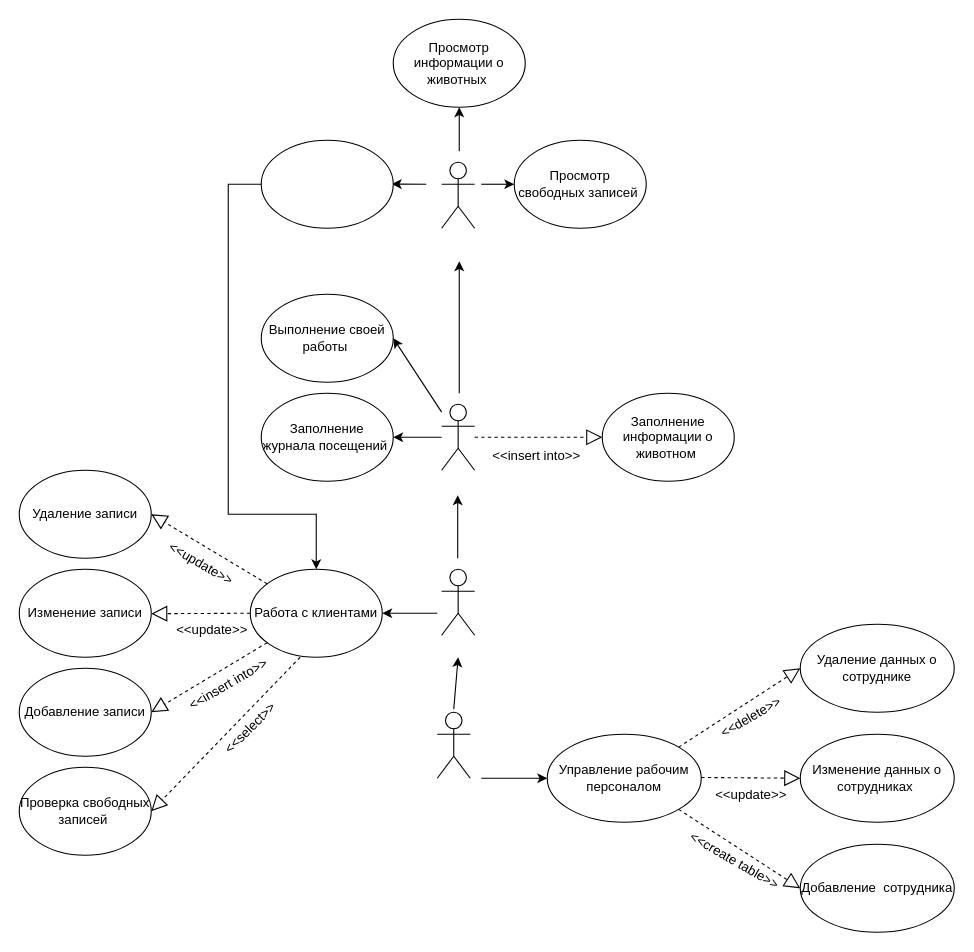
Some shapes in this 974 by 952 pixel diagram are drawn without their labels. The shapes that lost their labels are listed below. From the top down, each one's box as (x1, y1, x2, y2) in pixels, then its label:
(260, 139, 393, 228): Заполнения заявки на запись
(441, 161, 475, 228): Клиент
(441, 403, 475, 470): Сотрудник
(441, 568, 475, 635): Администратор
(436, 711, 470, 778): Директор
